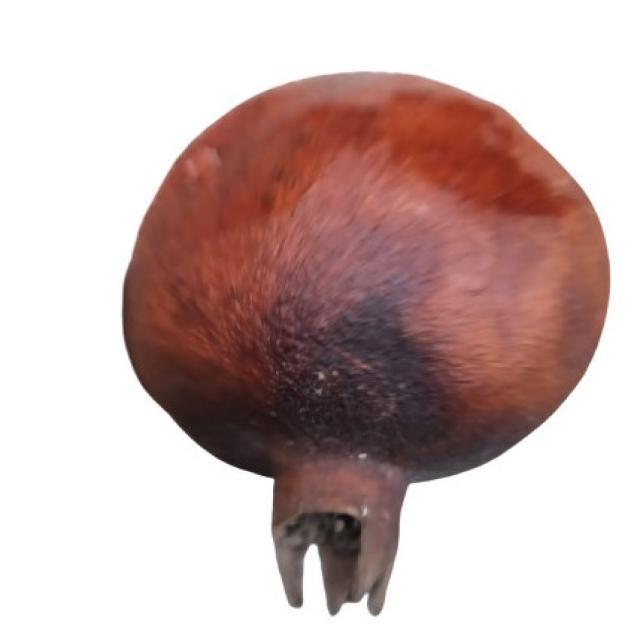Rotten: (119, 64, 612, 612)
